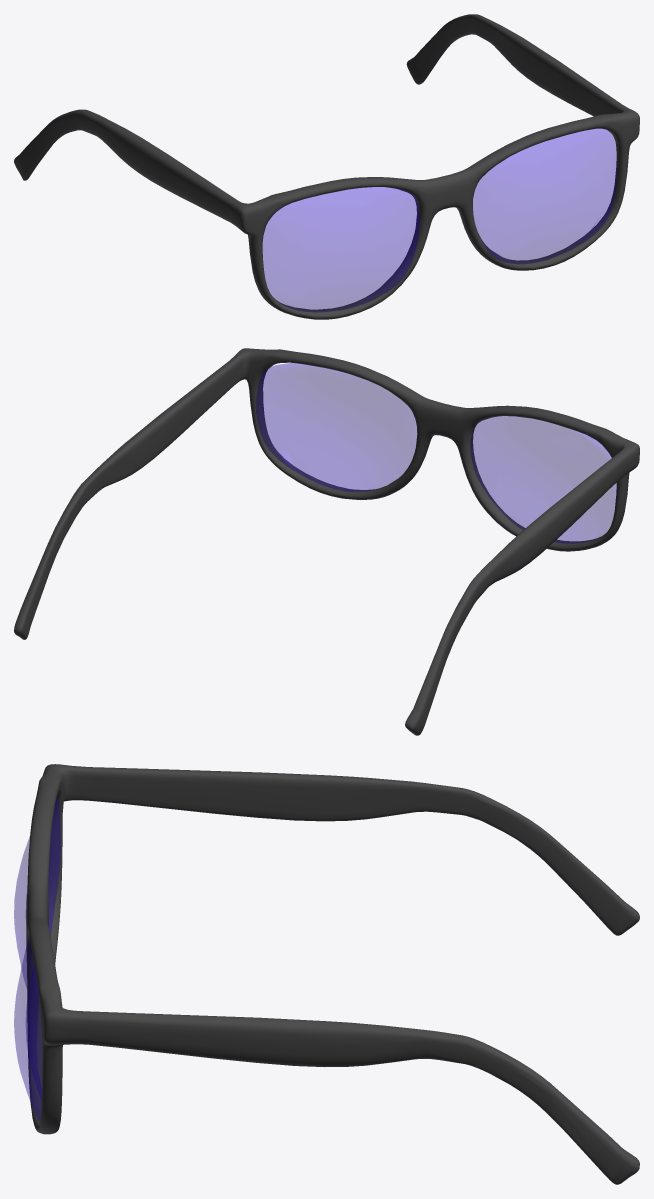
Rendered from glasses5.glb.
The picture shows the model from 3 angles, top to bottom: view 1: azimuth 30°, elevation 25°; view 2: azimuth 150°, elevation 25°; view 3: azimuth 270°, elevation 25°; orthographic projection. The views are drawn at different scales.
Parts seen in each view (by area): view 1: lens, glasses; view 2: glasses, lens; view 3: glasses, lens.
Part boxes in pixels (x1,y1,x2,y2): lens: (263,129,616,312); glasses: (14,14,639,319); glasses: (14,348,639,735); lens: (256,363,616,543); glasses: (26,764,639,1184); lens: (14,798,60,1121).
Size of the model in its own units: 2.12 by 0.6987 by 2.19.
